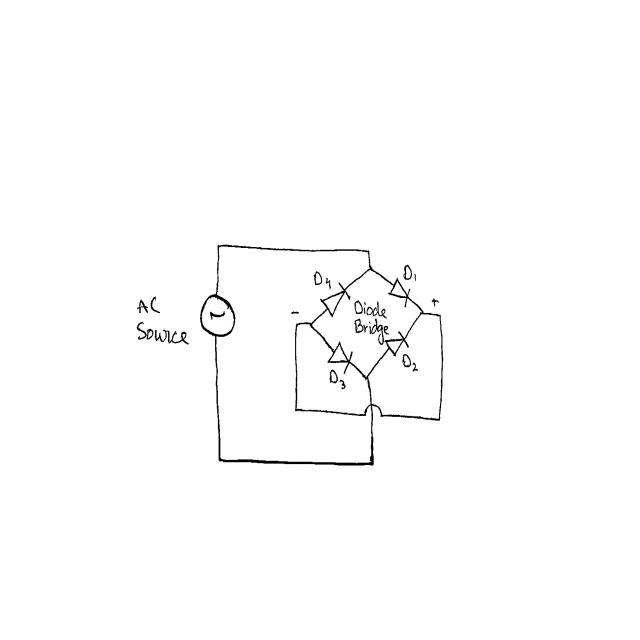crossover: (362, 402, 383, 421)
diode: (320, 281, 351, 318), (327, 342, 355, 379), (387, 277, 412, 309), (384, 330, 410, 358)
junction: (362, 371, 372, 382), (214, 241, 222, 252), (216, 454, 224, 464), (368, 456, 376, 466), (307, 319, 314, 330), (367, 263, 374, 274), (419, 309, 427, 318), (365, 247, 372, 257), (293, 405, 300, 414), (294, 320, 300, 328), (436, 415, 441, 423), (437, 312, 443, 318)
source: (199, 292, 237, 340)
text: (136, 320, 191, 346), (353, 318, 390, 346), (353, 299, 387, 319), (135, 297, 160, 317), (328, 366, 346, 391), (312, 271, 332, 290), (401, 353, 419, 373), (402, 263, 418, 282)
